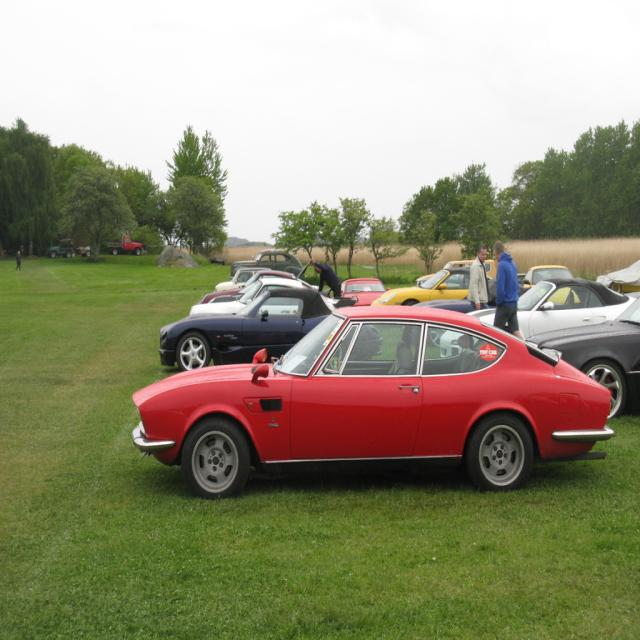car: (130, 297, 619, 496)
